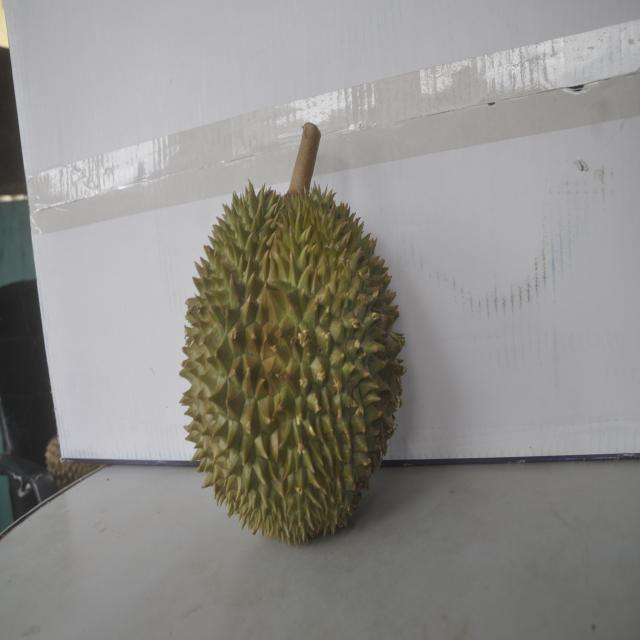mature: (178, 156, 402, 544)
